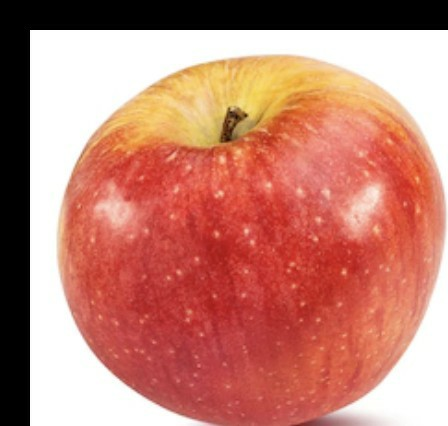fresh_apple: (55, 59, 442, 426)
